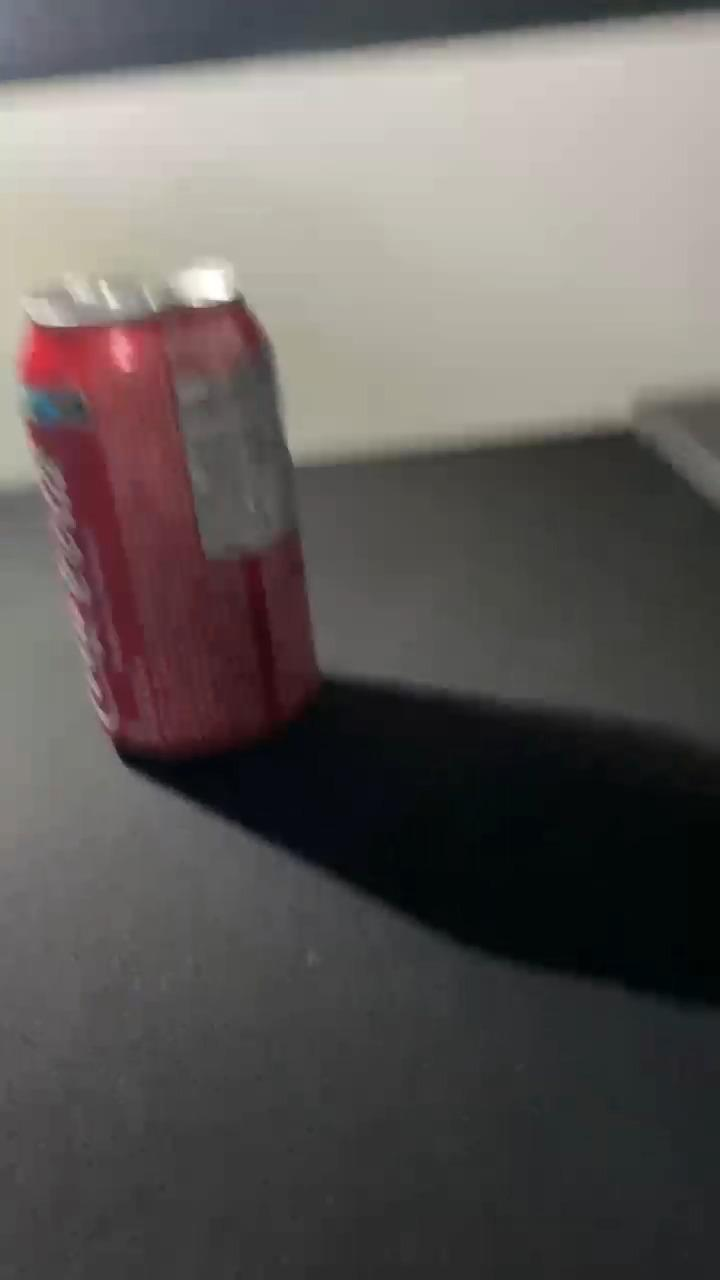coke: (7, 264, 326, 769)
